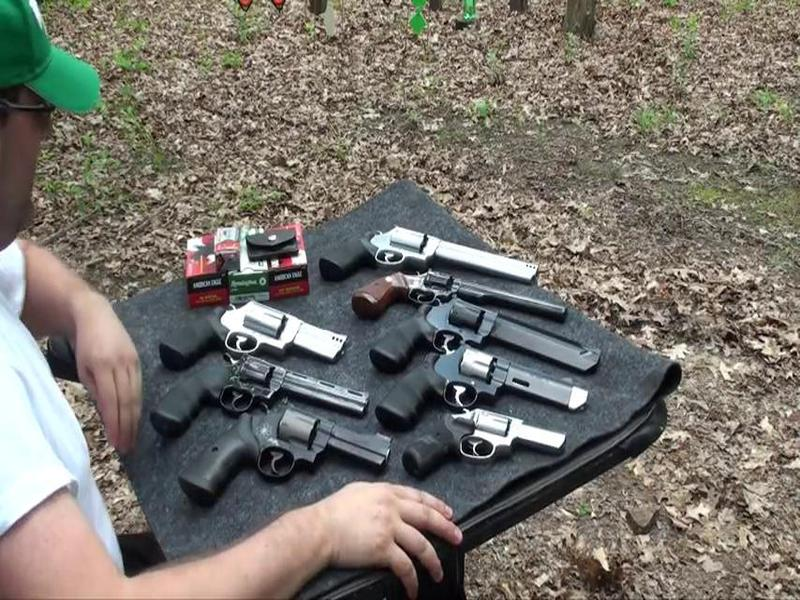Revolver: (324, 220, 540, 299)
